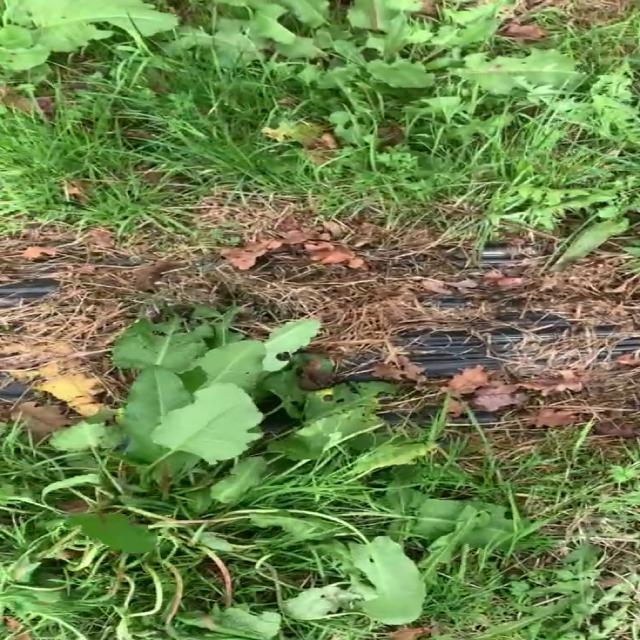organic waste: (0, 318, 478, 640), (196, 0, 640, 157), (0, 0, 174, 70)
